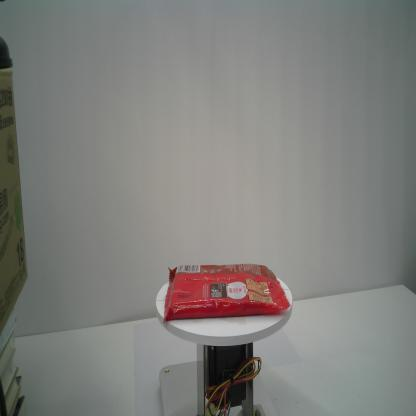Dessert: (163, 263, 291, 325)
